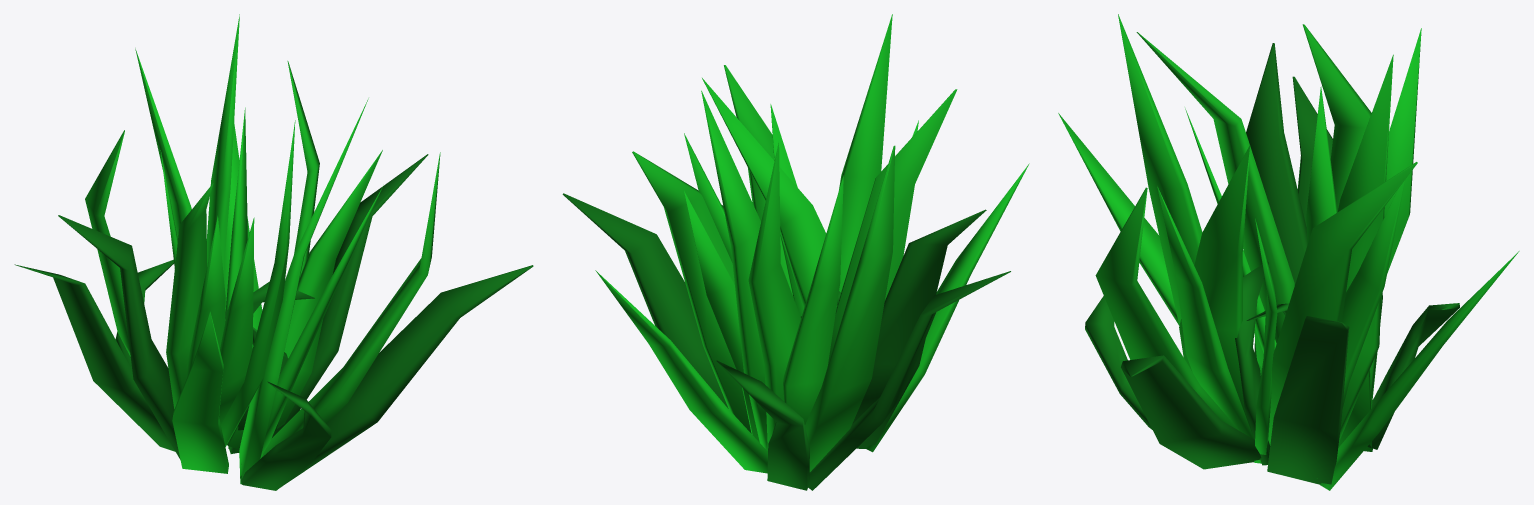
File: cesped_grande.glb
3 renders of one model, left to right at view 1: azimuth 30°, elevation 25°; view 2: azimuth 150°, elevation 25°; view 3: azimuth 270°, elevation 25°, orthographic. The views are drawn at different scales.
Visible parts, largest first — view 1: Cube.001; view 2: Cube.001; view 3: Cube.001.
Boxes of the visible parts, bbox=[...] form: Cube.001: bbox=[14, 14, 533, 490]; Cube.001: bbox=[562, 14, 1029, 490]; Cube.001: bbox=[1058, 14, 1519, 490].
Bounding box in the file's own units: 9 × 7.87 × 7.36.
